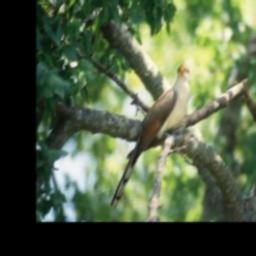Cuckoo: (109, 59, 194, 211)
